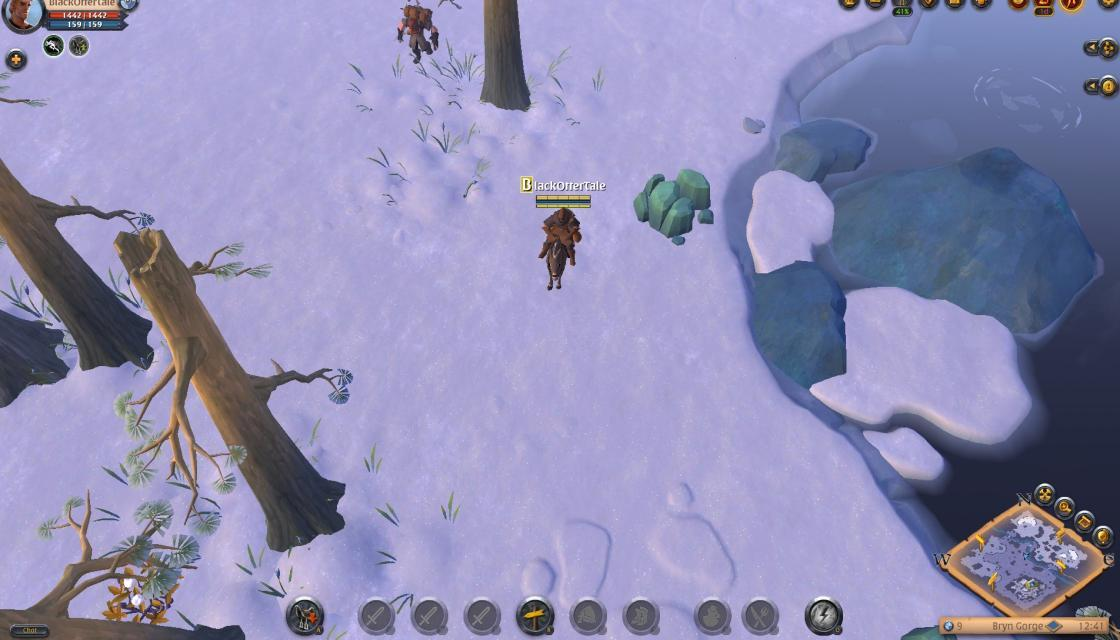sandstone: (624, 162, 723, 246)
